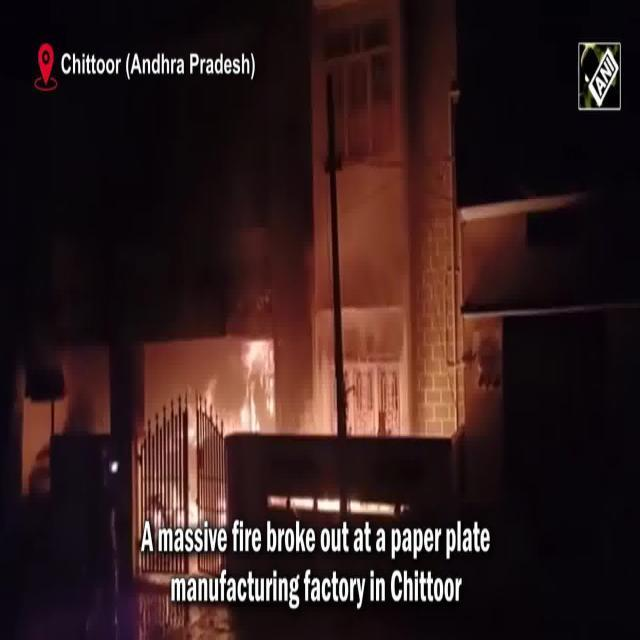Fire: (240, 342, 274, 442)
